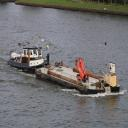tugboat: (8, 40, 51, 77)
